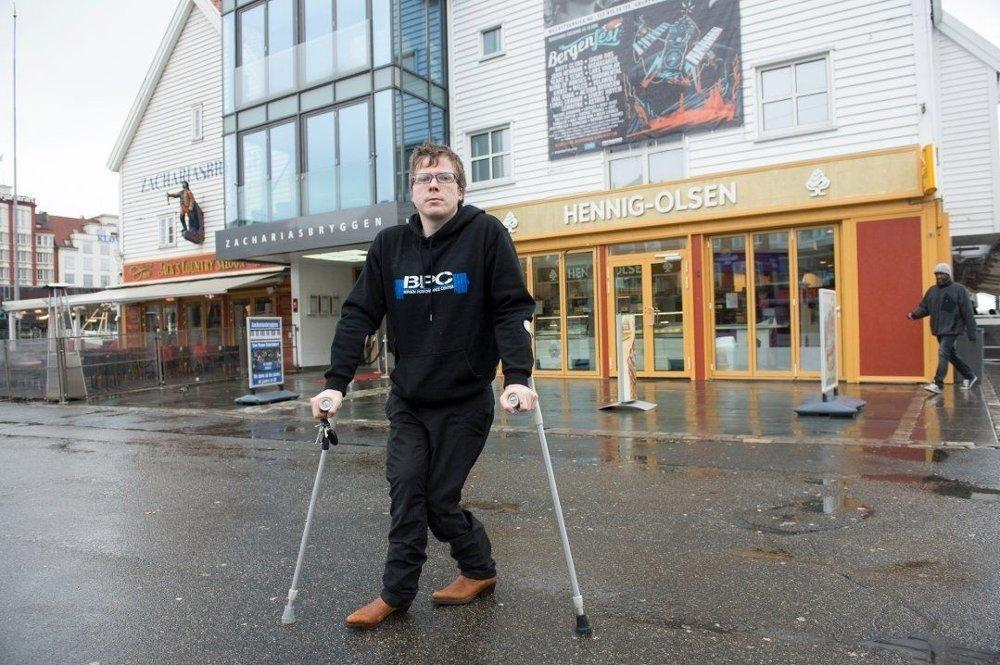crutches: (264, 138, 602, 659)
